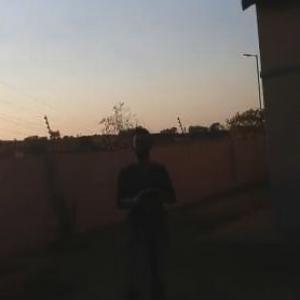follow: (110, 118, 188, 299)
